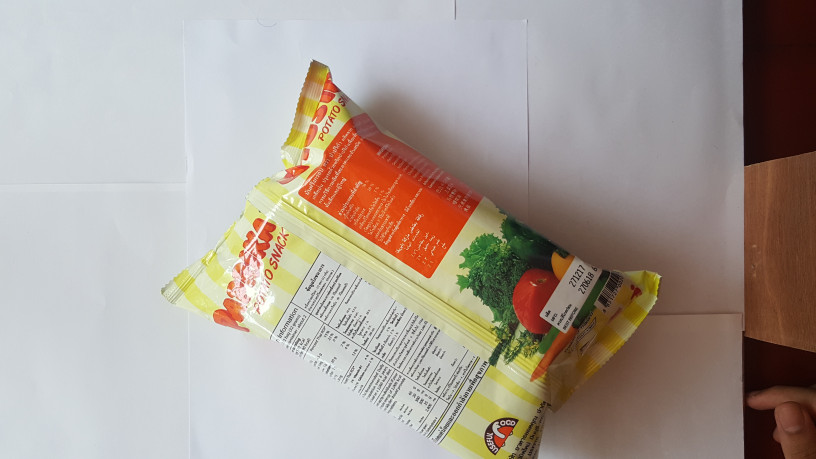paprika: (147, 66, 661, 459)
